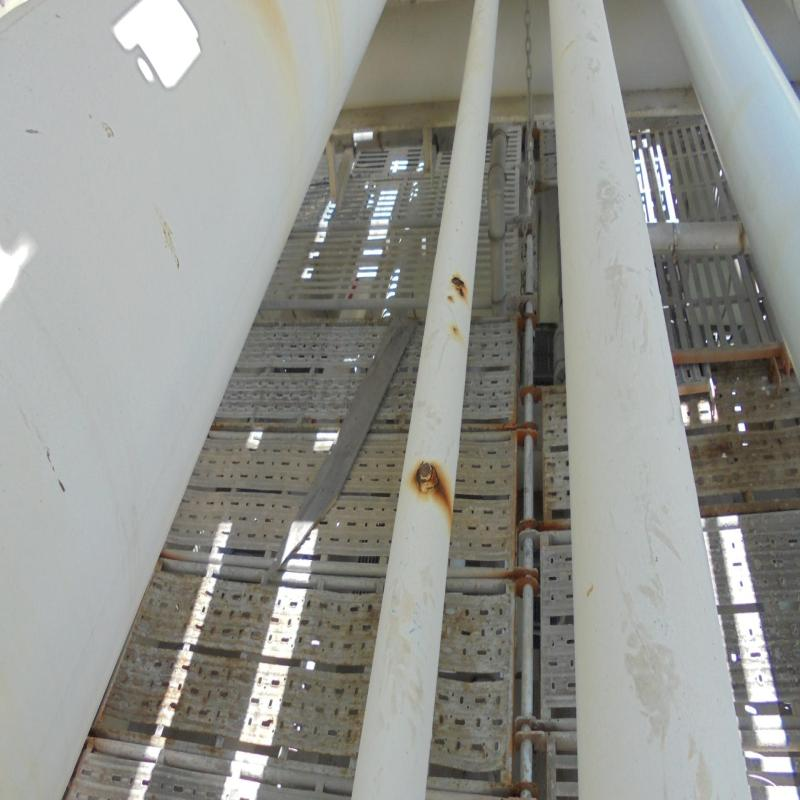corrosion: (412, 459, 448, 499)
